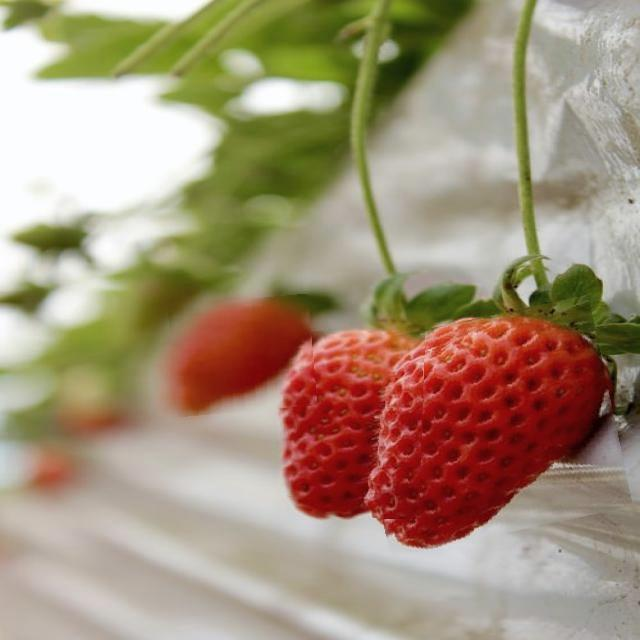strawberry: (356, 306, 624, 546), (278, 331, 424, 518), (170, 297, 316, 415)
